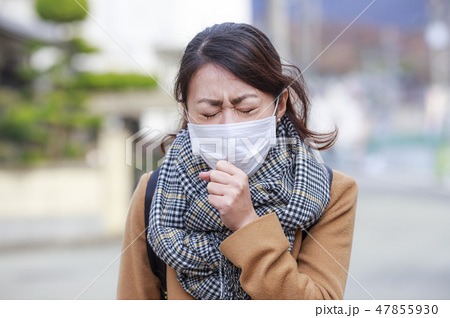mask: (185, 126, 288, 185)
